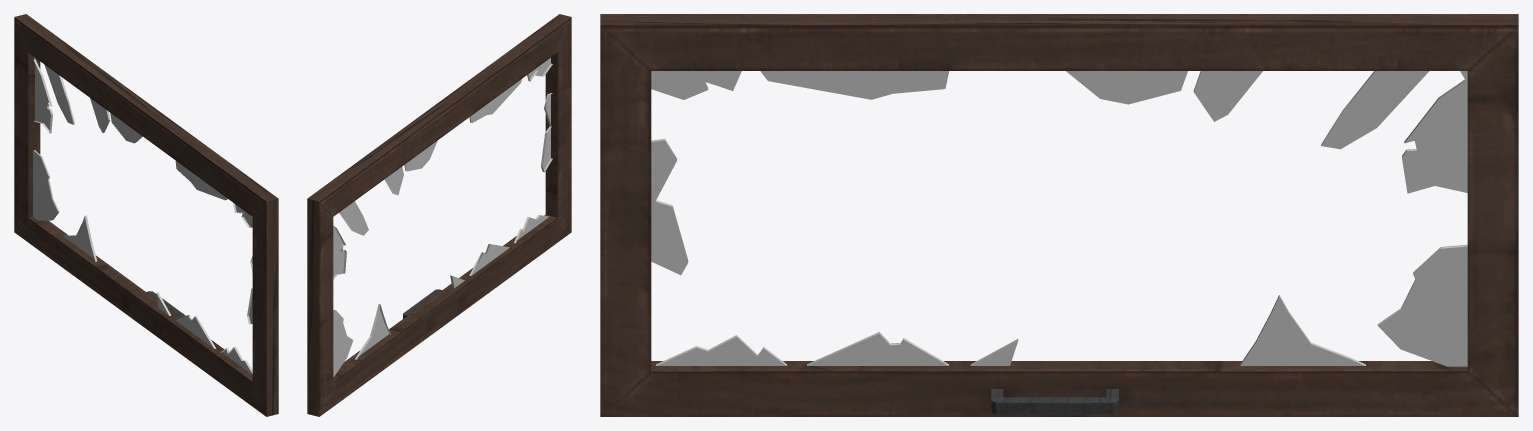
File: dest_glo_bookshelf_wood01_dmg1_lod0.glb
The picture shows the model from 3 angles, left to right: view 1: azimuth 30°, elevation 25°; view 2: azimuth 150°, elevation 25°; view 3: azimuth 270°, elevation 25°; orthographic projection. The views are drawn at different scales.
Parts seen in each view (by area): view 1: surf0, surf1; view 2: surf0, surf1; view 3: surf0, surf1.
Part boxes in pixels (left/top/right/bottom): surf0: left=14, top=14, right=278, bottom=416; surf1: left=33, top=57, right=252, bottom=374; surf0: left=307, top=14, right=571, bottom=416; surf1: left=333, top=58, right=552, bottom=376; surf0: left=600, top=14, right=1518, bottom=416; surf1: left=651, top=71, right=1467, bottom=366.
Size of the model in its own units: 2.27 by 16.96 by 36.
